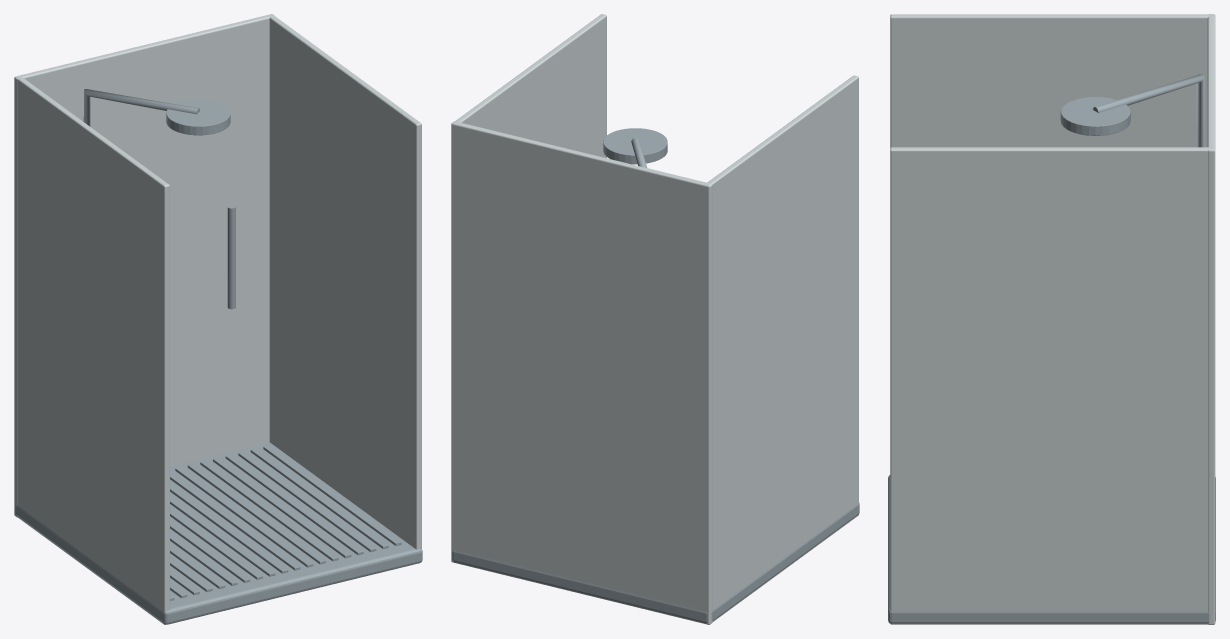
Rendered from RD_DeconShower.fbx.
3 renders of one model, left to right at view 1: azimuth 30°, elevation 25°; view 2: azimuth 150°, elevation 25°; view 3: azimuth 270°, elevation 25°, orthographic. The views are drawn at different scales.
Visible parts, largest first — view 1: RD_DeconShower; view 2: RD_DeconShower; view 3: RD_DeconShower.
Boxes of the visible parts, x1=… form: RD_DeconShower: x1=14, y1=14, x2=422, y2=624; RD_DeconShower: x1=451, y1=14, x2=859, y2=624; RD_DeconShower: x1=888, y1=14, x2=1215, y2=624.
Size of the model in its own units: 148 by 240 by 150.
